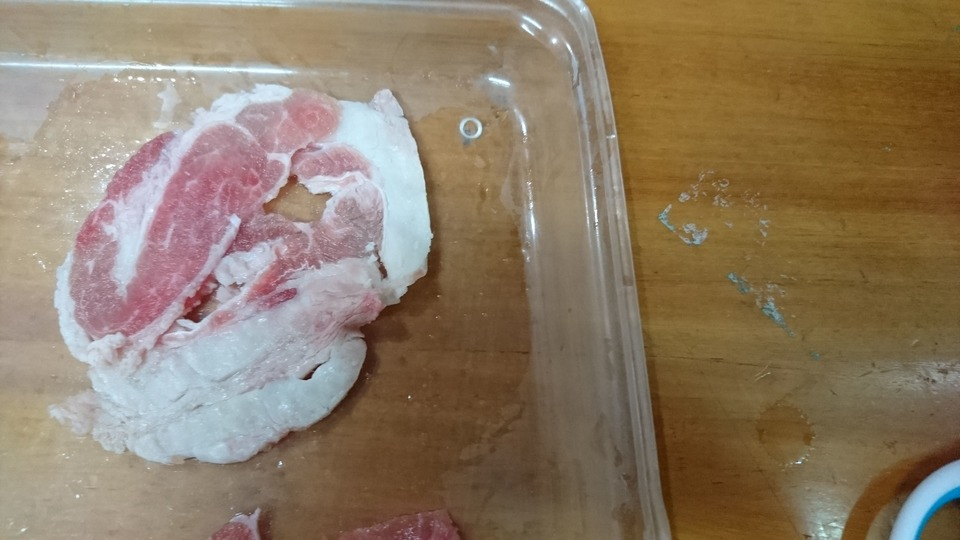restructured meat: (57, 69, 427, 467)
